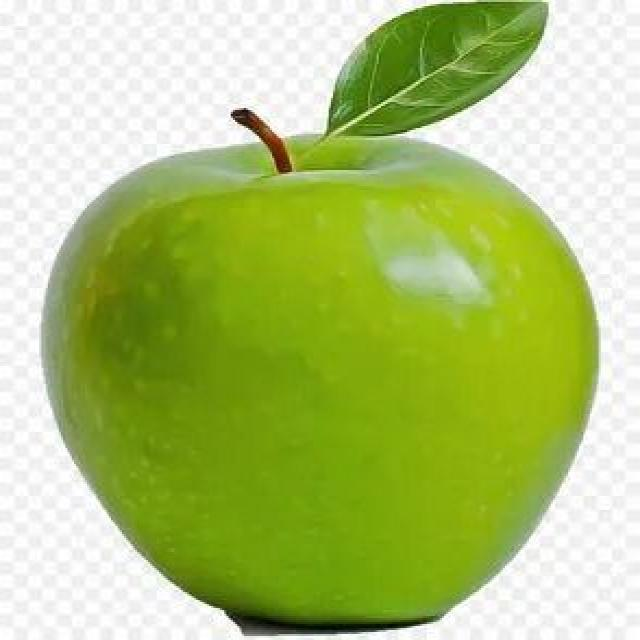Fresh Apple: (41, 130, 622, 640)
